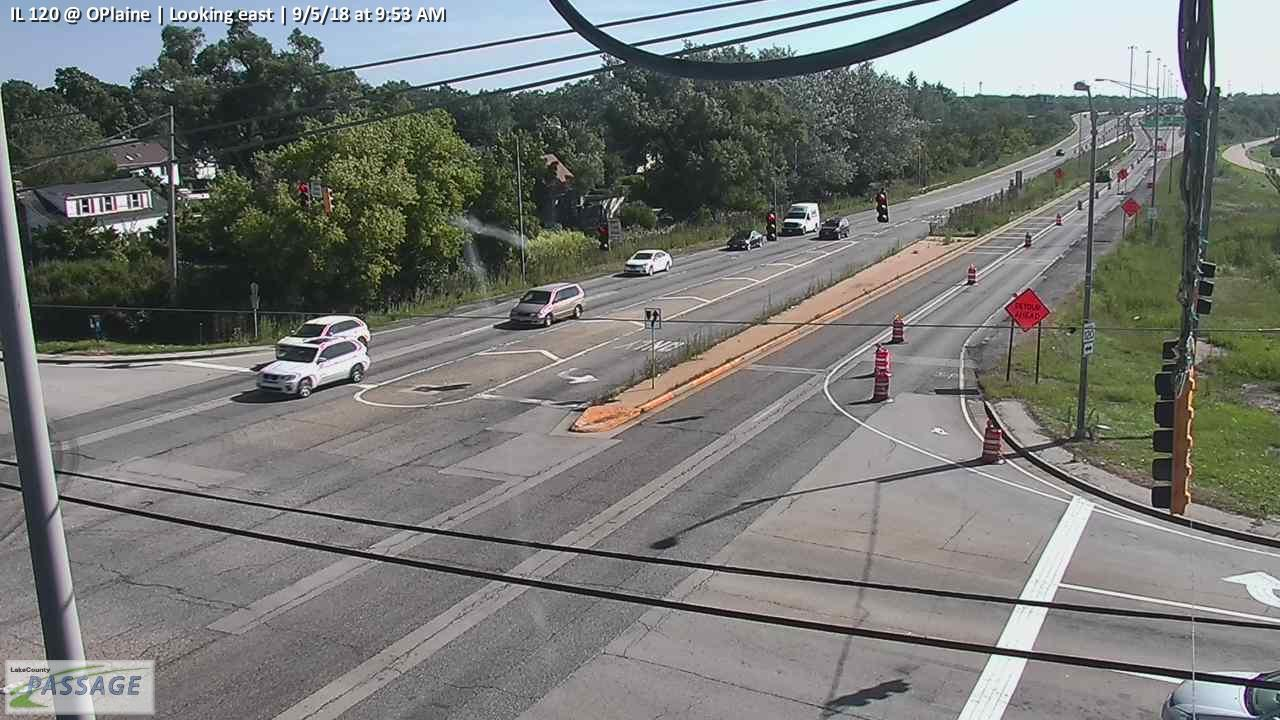SUV: (256, 335, 372, 399), (274, 315, 370, 359), (510, 282, 585, 327), (818, 216, 849, 240)
Sedan: (623, 249, 672, 275), (726, 230, 767, 251)
Truck: (781, 202, 819, 234)
